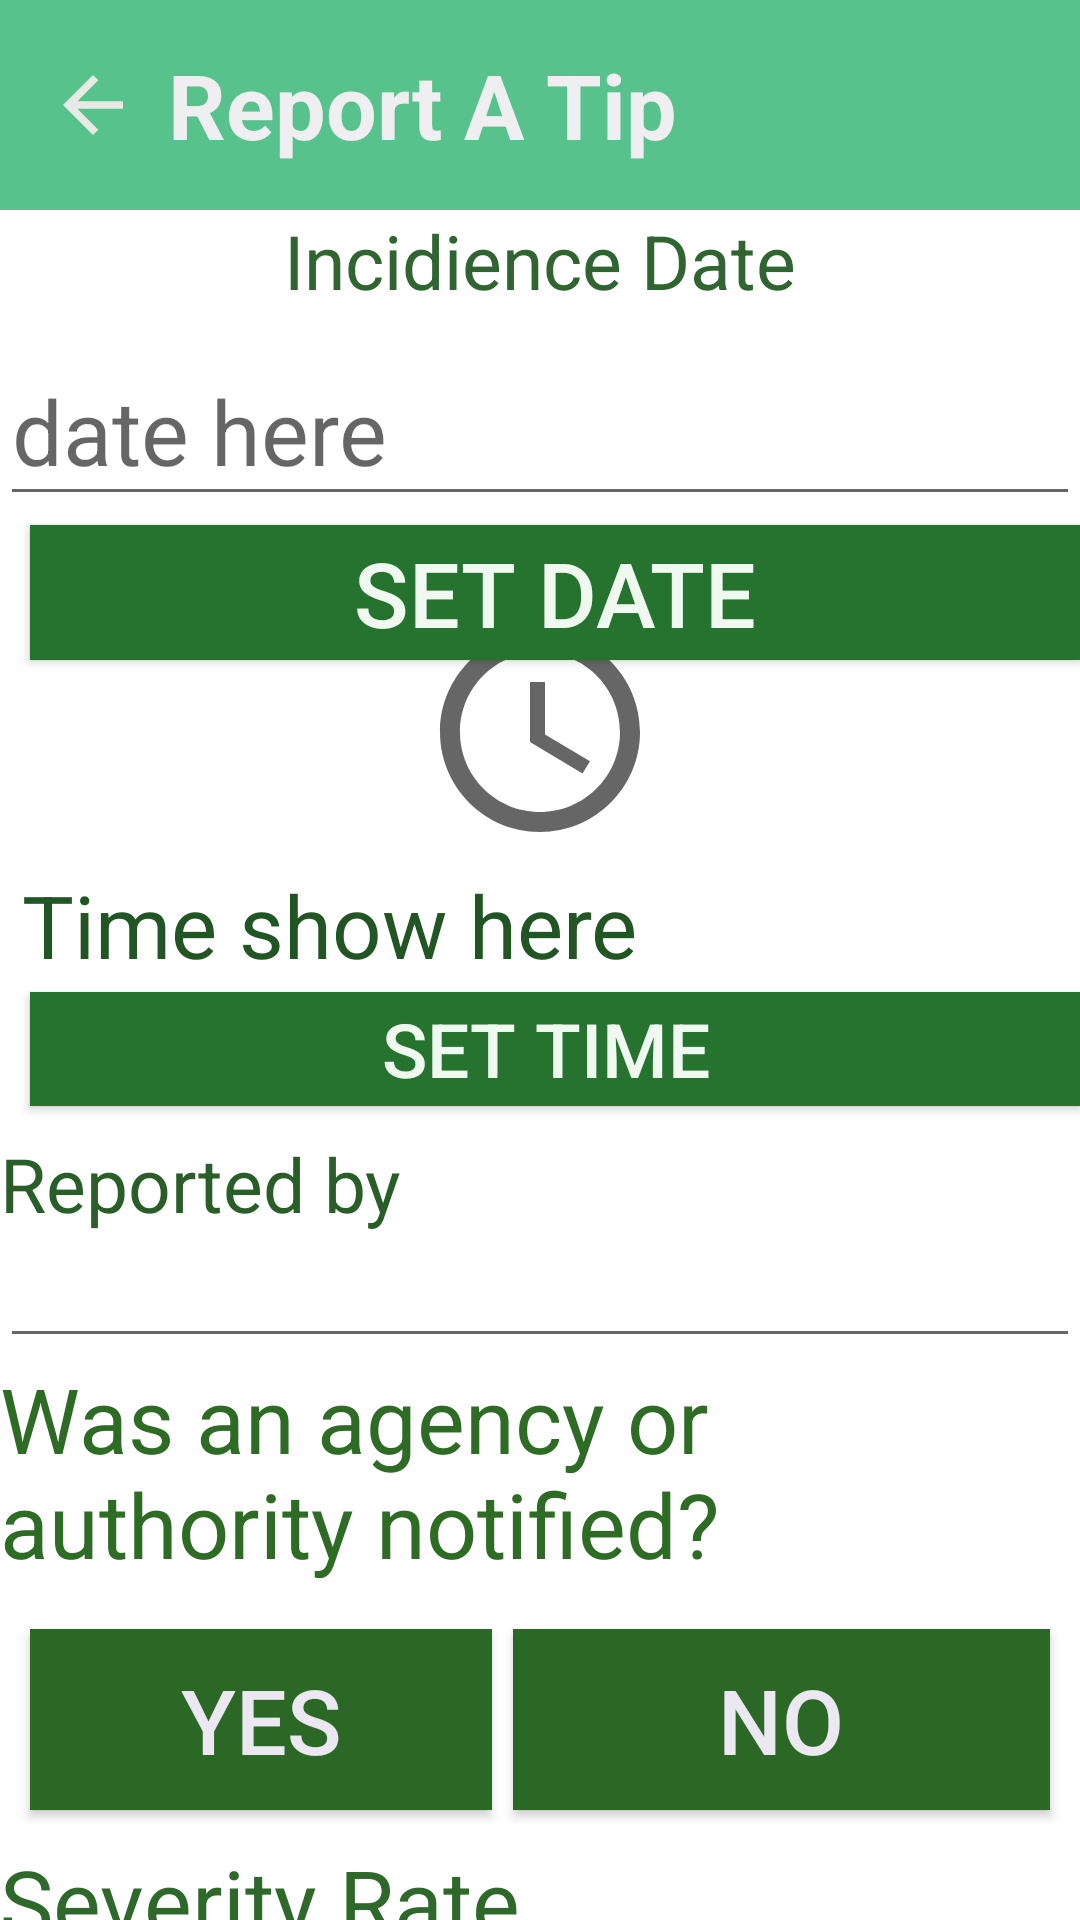

Screen size 1080px x 1920px. Icon name, then its center in pixels as point (x, y):
arrow back: point (93, 105)
